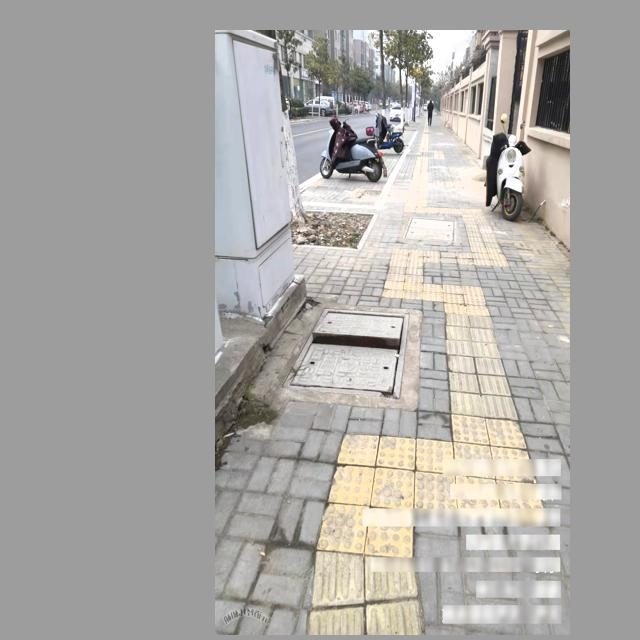good: (402, 216, 458, 245)
uncovered: (282, 306, 410, 396)
